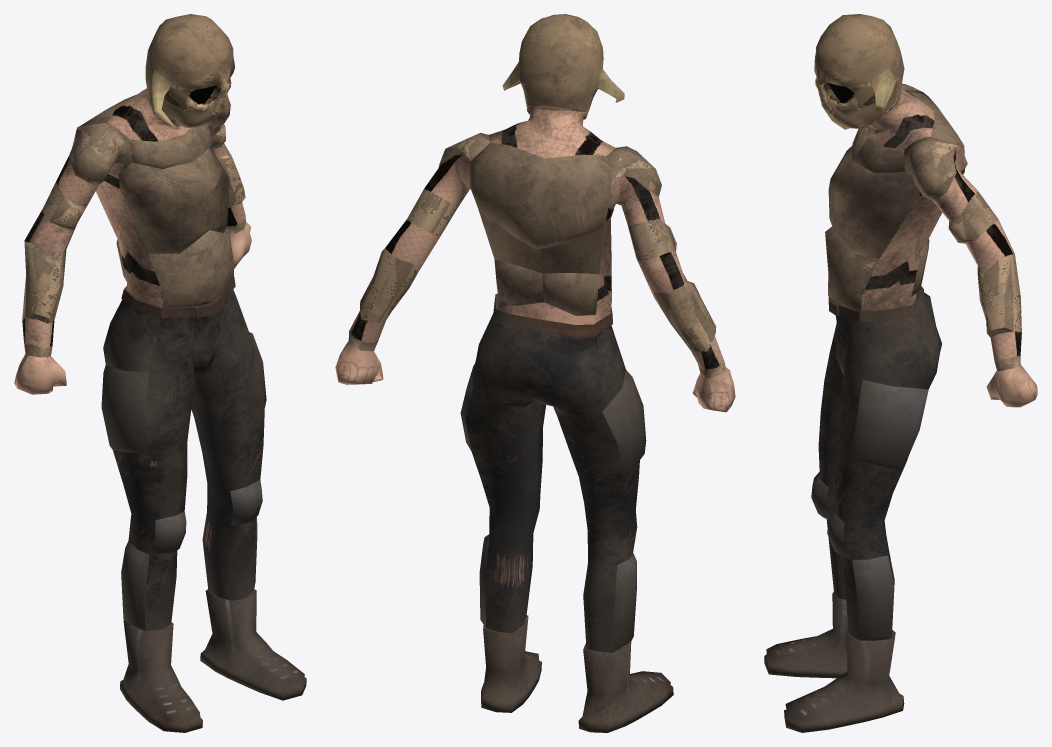
Rendered from Anim_recibirdanyo_npc1.0027.obj.
3 renders of one model, left to right at view 1: azimuth 30°, elevation 25°; view 2: azimuth 150°, elevation 25°; view 3: azimuth 270°, elevation 25°, orthographic. The views are drawn at different scales.
Parts seen in each view (by area): view 1: NPC2; view 2: NPC2; view 3: NPC2.
Part boxes in pixels (x1,y1,x2,y2): NPC2: [14, 14, 306, 732]; NPC2: [335, 14, 735, 732]; NPC2: [764, 14, 1037, 732].
Size of the model in its own units: 4.5 by 9.46 by 3.48.
